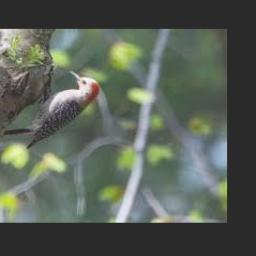Woodpecker: (2, 69, 99, 148)
